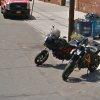Motorcycle: (26, 19, 100, 96)
